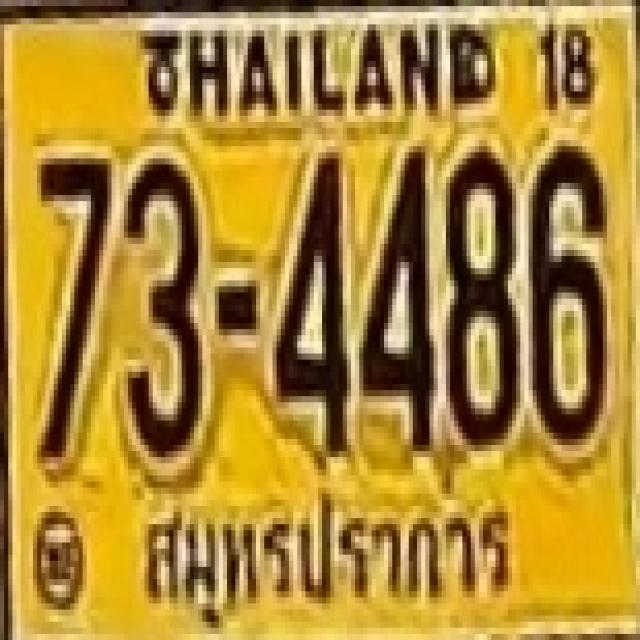3: (122, 152, 200, 451)
4: (272, 146, 347, 451), (360, 143, 430, 448)
6: (528, 140, 603, 439)
7: (38, 152, 108, 458)
8: (442, 143, 516, 442)
SPK: (128, 492, 519, 625)
